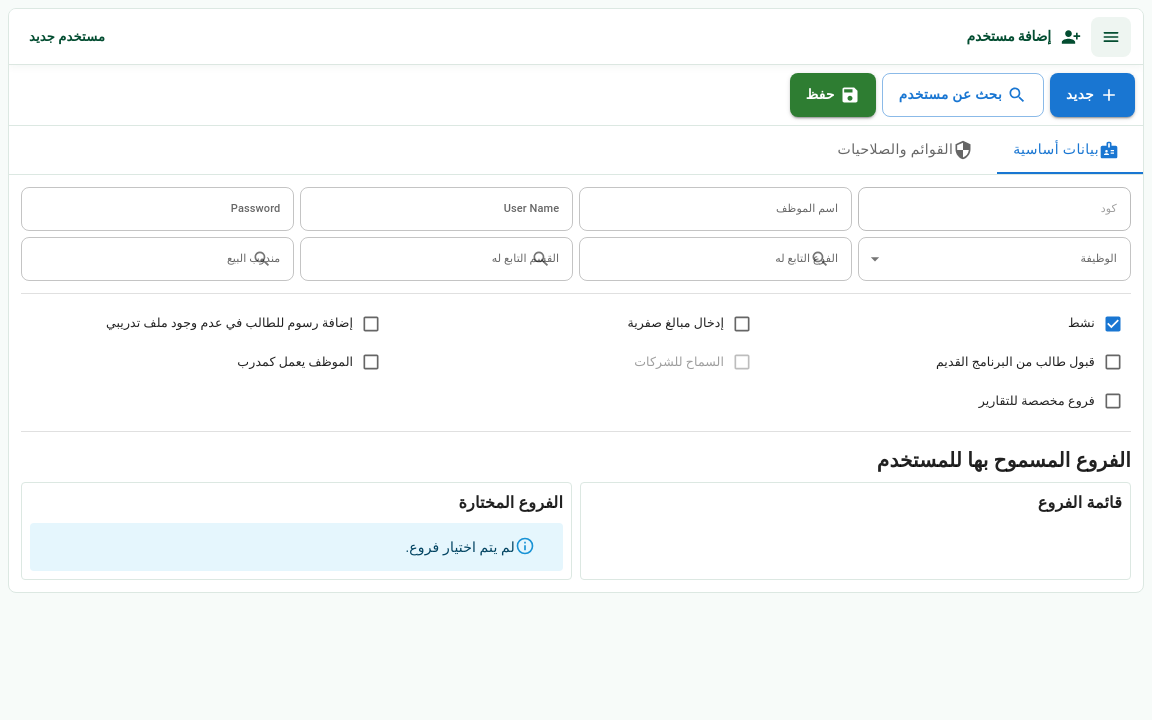
Test: a failed lookup reports the failure instead of no results
The width and height of the screenshot is (1152, 720).
Click the button "بحث عن مستخدم" at (963,95), box [882, 73, 1044, 117]
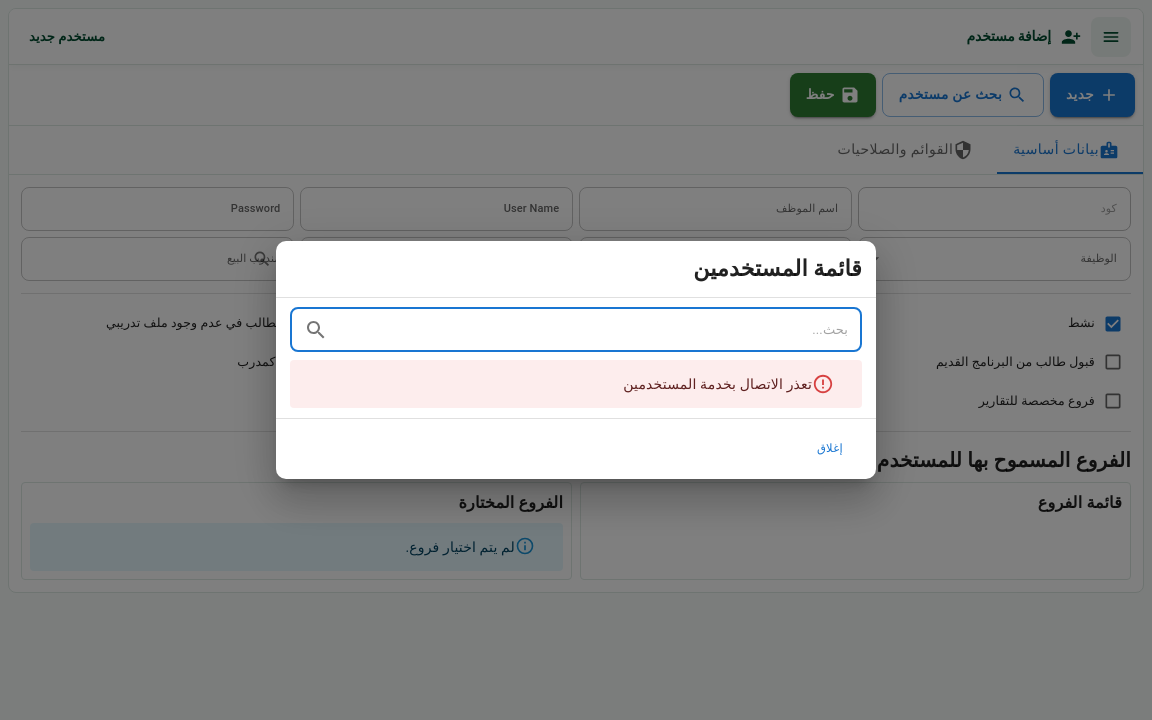
Expected: the text "تعذر الاتصال بخدمة المستخدمين" is shown, [623, 376, 812, 392]
